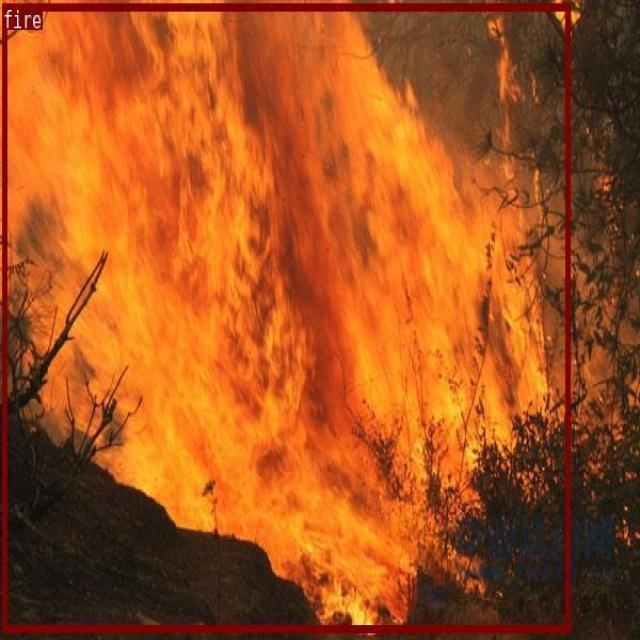fire: (2, 2, 569, 630)
